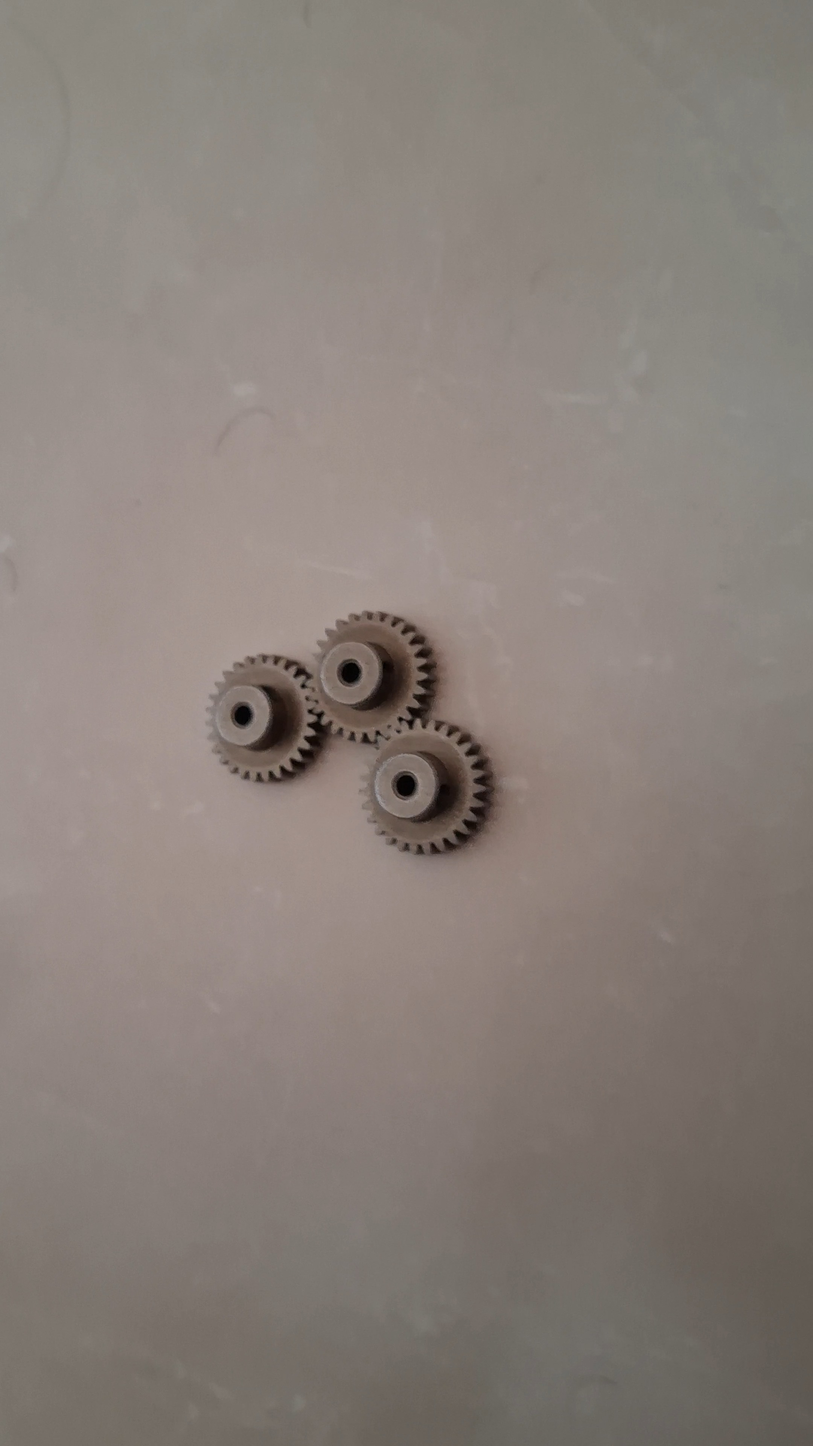spur gear: (362, 721, 490, 854), (312, 612, 434, 742), (209, 654, 320, 781)
